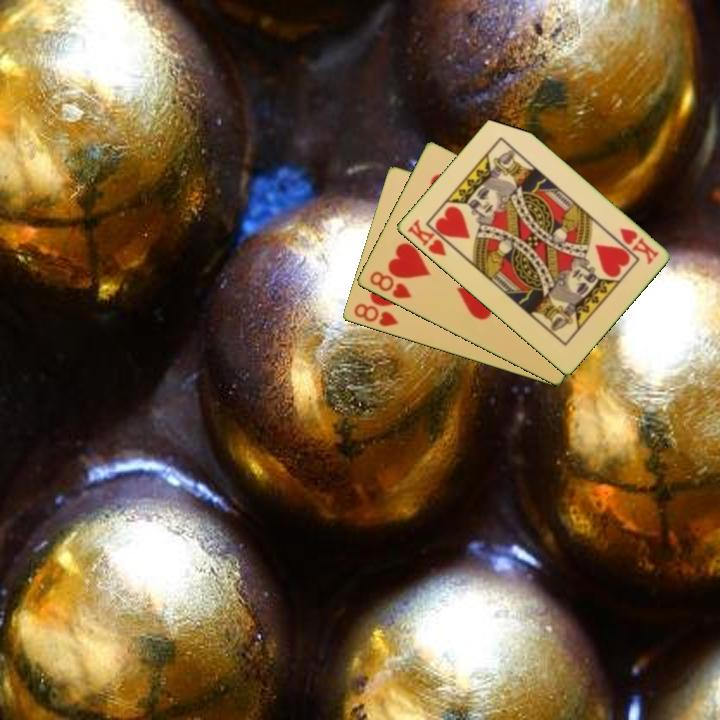8h: (365, 268, 414, 302), (350, 300, 401, 330)
Kh: (403, 216, 457, 259), (615, 225, 661, 268)
